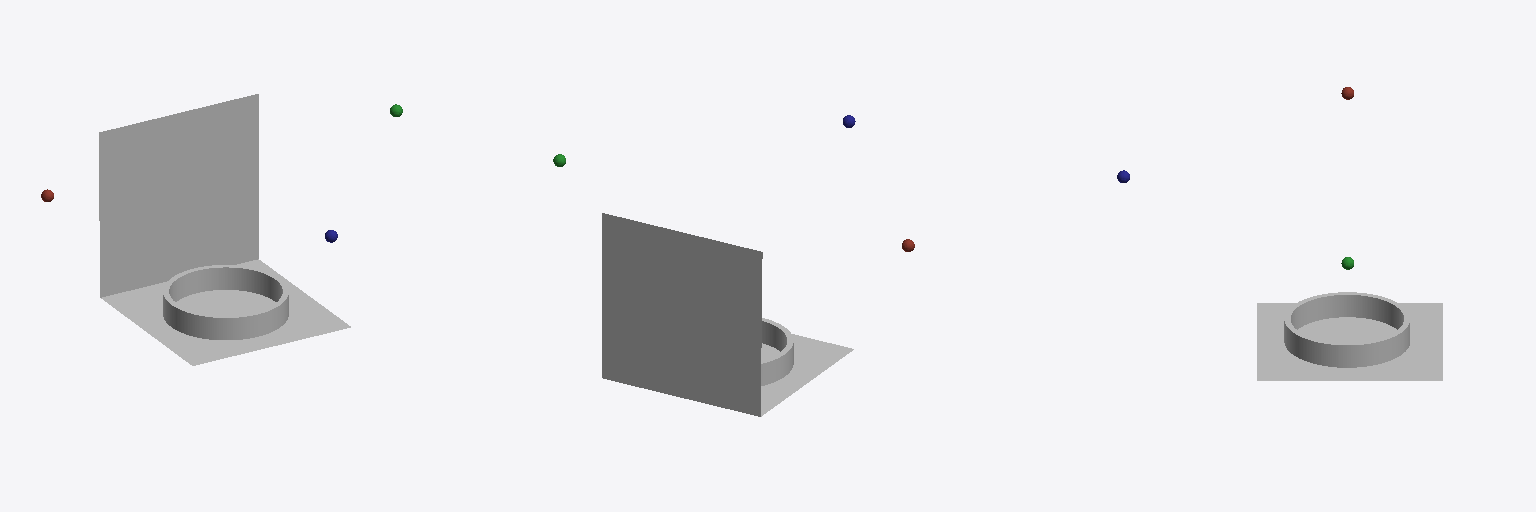
The model's file is ring.obj.
3 views of the same model, side by side, from view 1: azimuth 30°, elevation 25°; view 2: azimuth 150°, elevation 25°; view 3: azimuth 270°, elevation 25° (orthographic).
Bounding box in the file's own units: 1248 × 554 × 978.